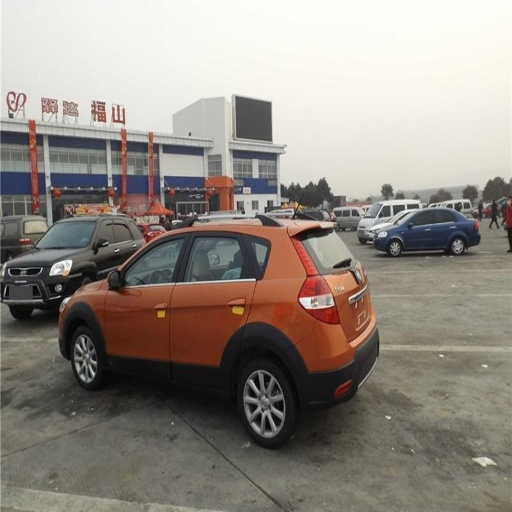back_bumper: (299, 323, 374, 406)
back_glass: (294, 229, 345, 268)
back_left_door: (171, 231, 253, 382)
front_left_door: (105, 234, 189, 378)
tailgate: (320, 266, 363, 335)
